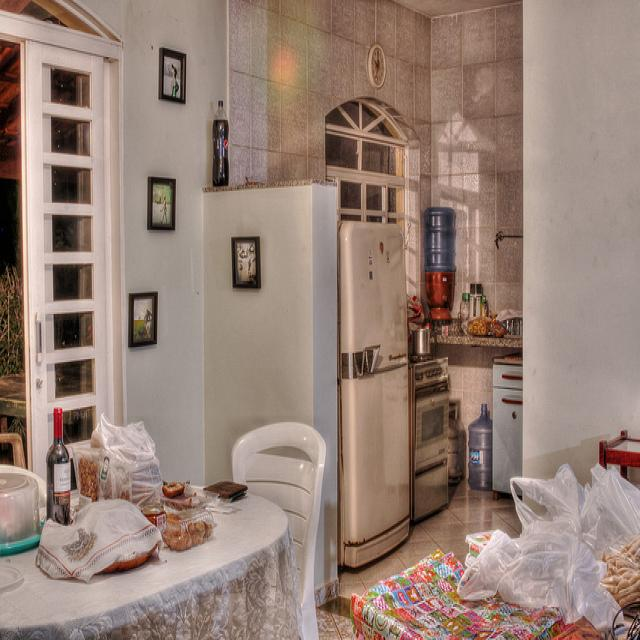chair: (230, 430, 324, 585), (0, 432, 26, 468)
dining table: (0, 475, 300, 639)
